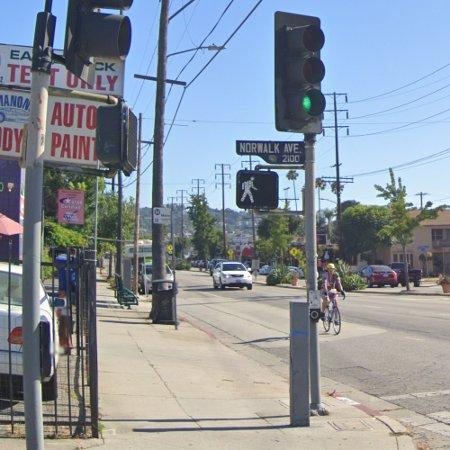traffic lights: (276, 11, 326, 134)
